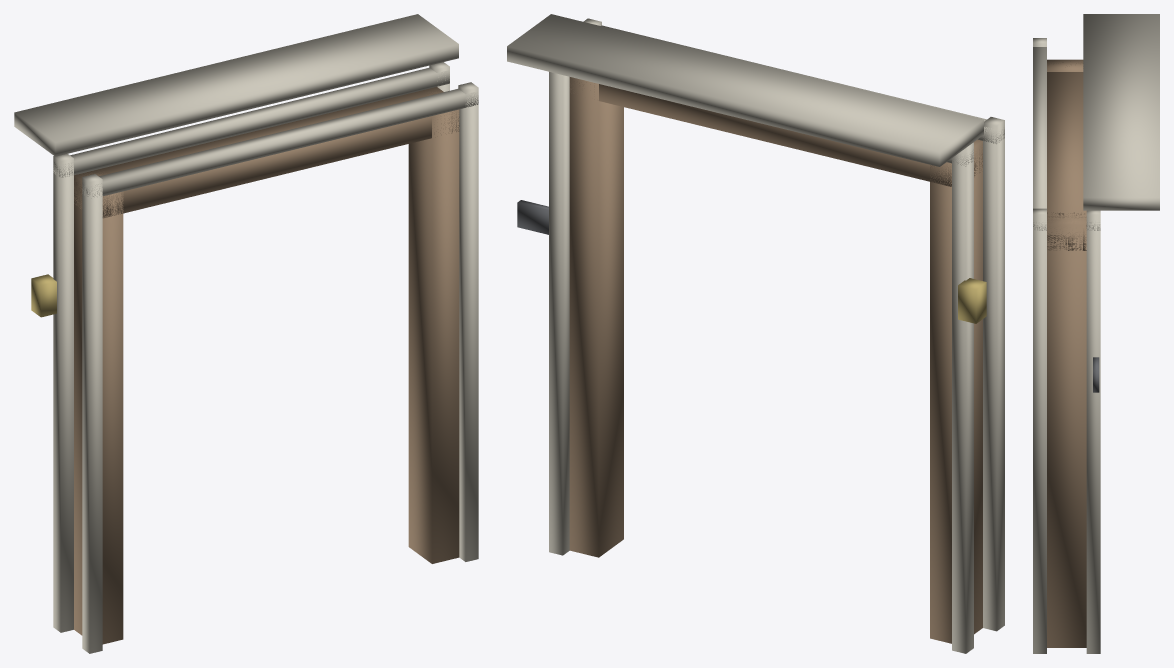
The model's file is doorway_motel_w182_h240_d24.glb.
3 views of the same model, side by side, from view 1: azimuth 30°, elevation 25°; view 2: azimuth 150°, elevation 25°; view 3: azimuth 270°, elevation 25° (orthographic). The views are drawn at different scales.
Visible parts, largest first — view 1: world; view 2: world; view 3: world.
Boxes of the visible parts, <box> form: world: <box>14,14,478,653</box>; world: <box>507,14,1004,653</box>; world: <box>1033,14,1159,653</box>.
Size of the model in its own units: 2.57 by 2.78 by 0.6953.
